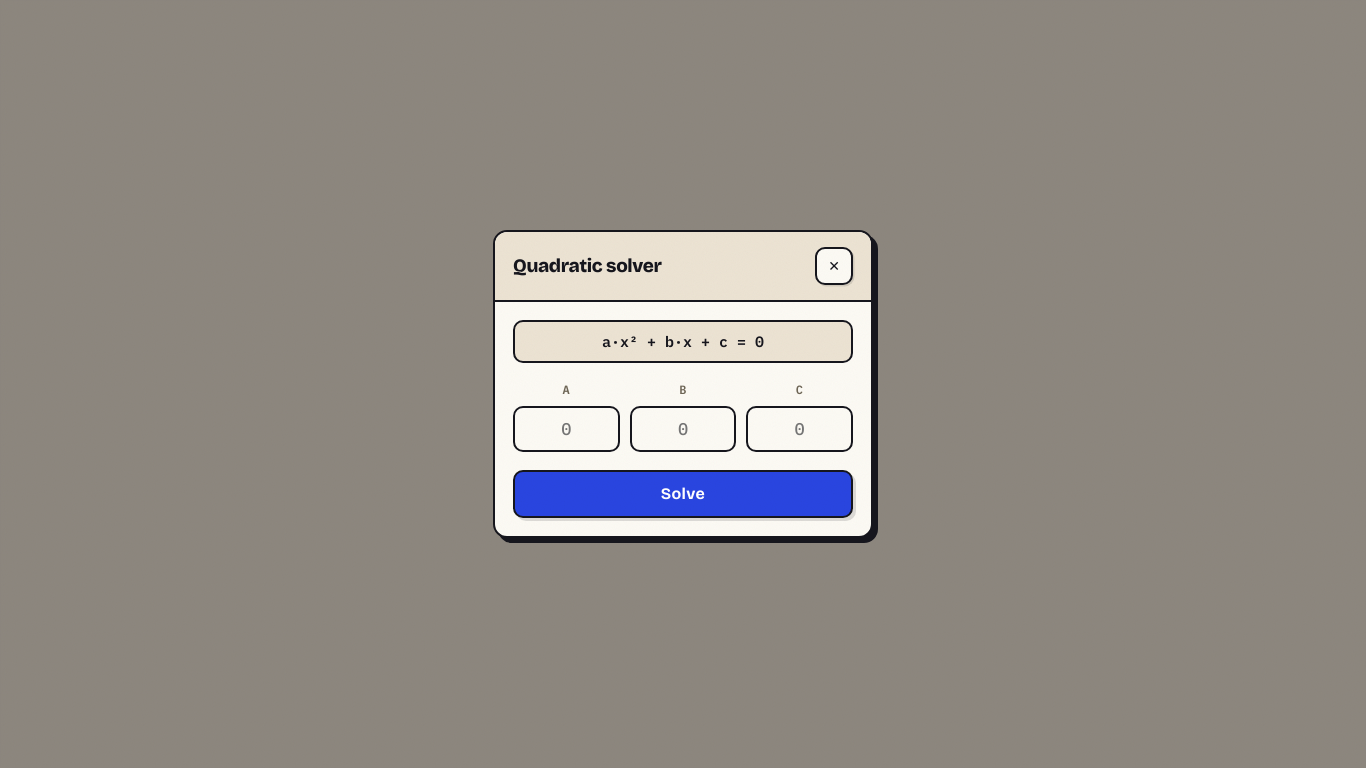
it: QuadraticSolver UI › solves a real-root quadratic from the inputs
Step 1. Type "1" into the field labelled "a" → (566, 429), box 513,406 -> 620,452
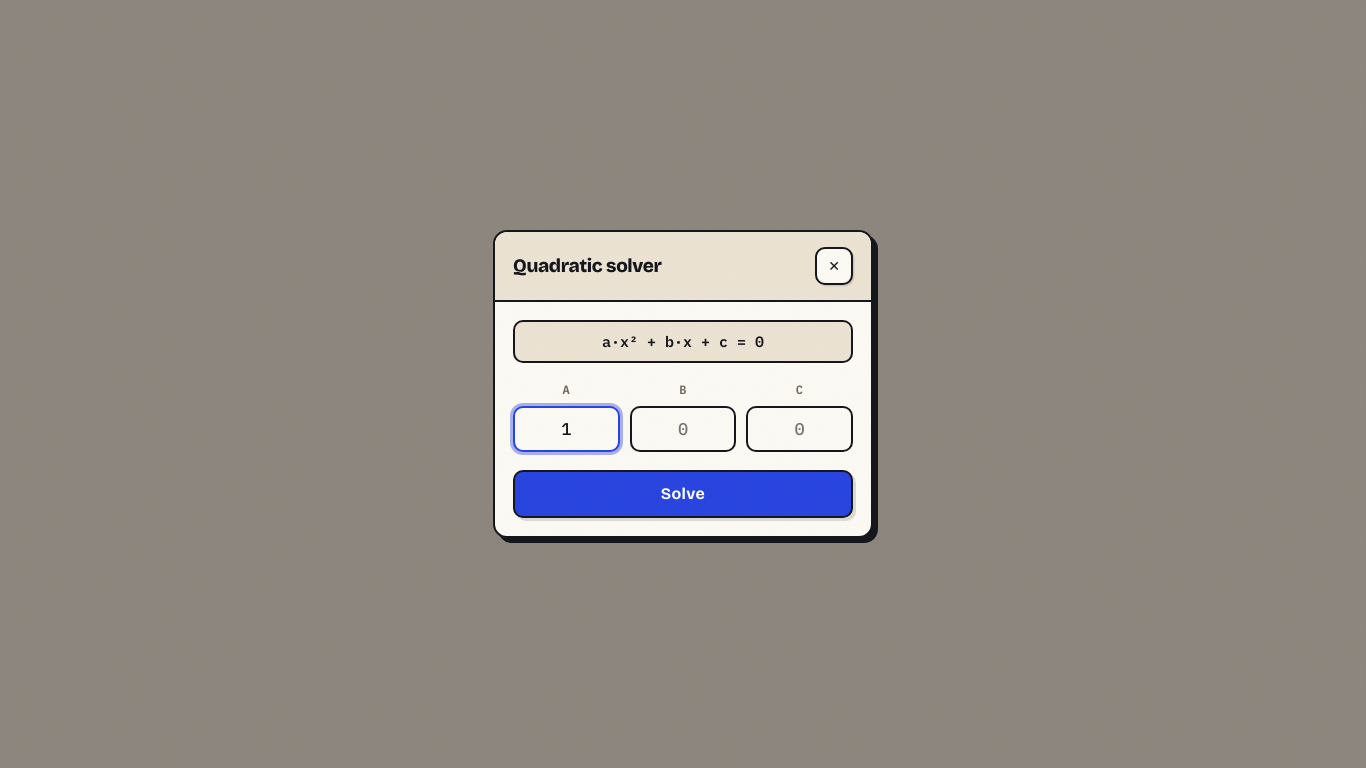
Step 2. Type "-5" into the field labelled "b" → (683, 429), box 630,406 -> 736,452
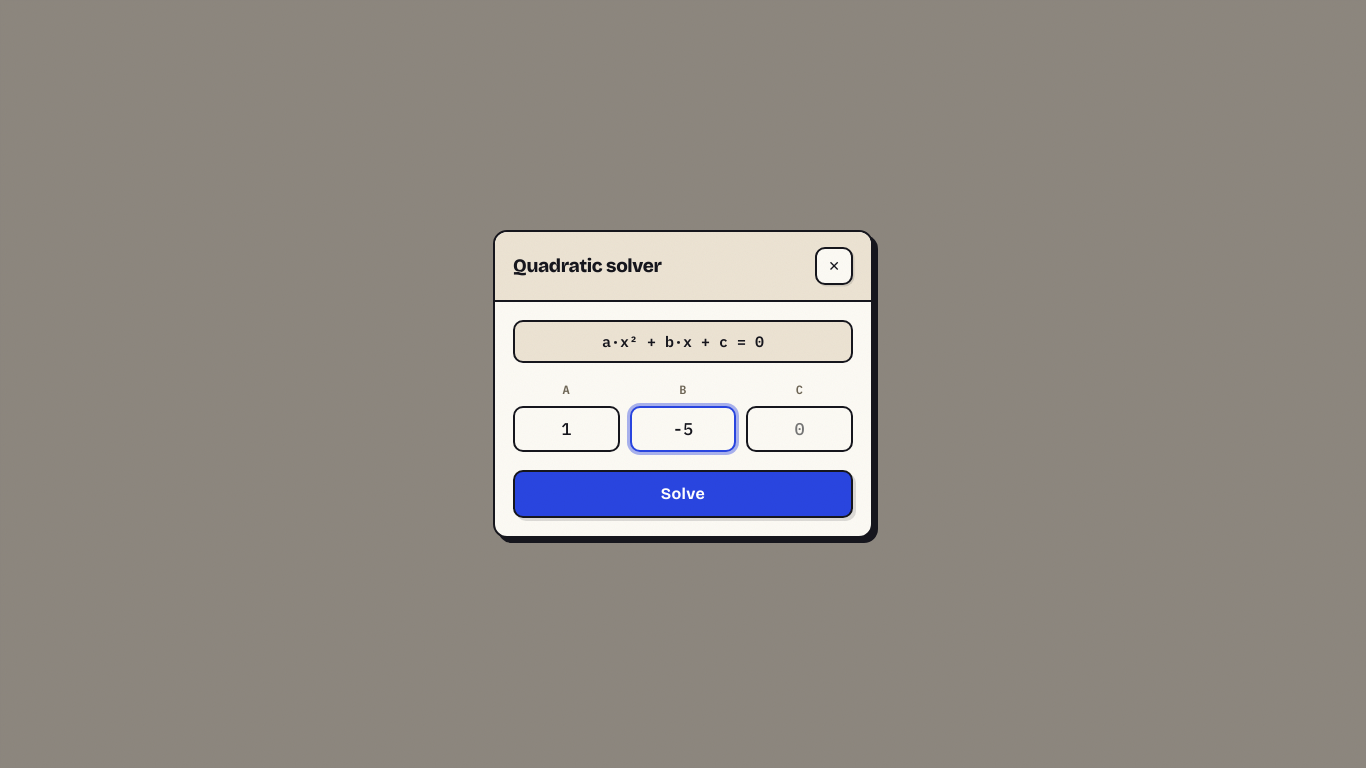
Step 3. Type "6" into the field labelled "c" → (800, 429), box 746,406 -> 853,452
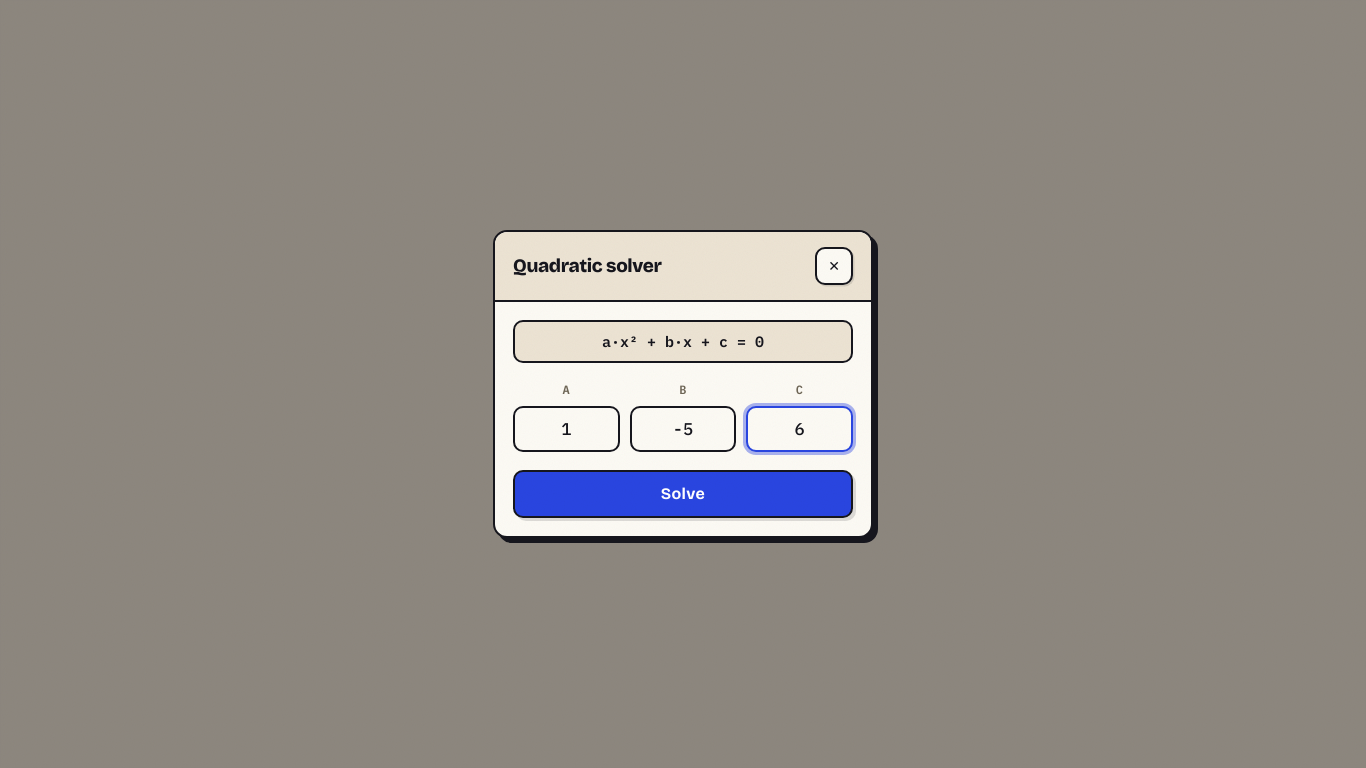
Step 4. Click the button "Solve" → click(683, 494), box 513,470 -> 853,518
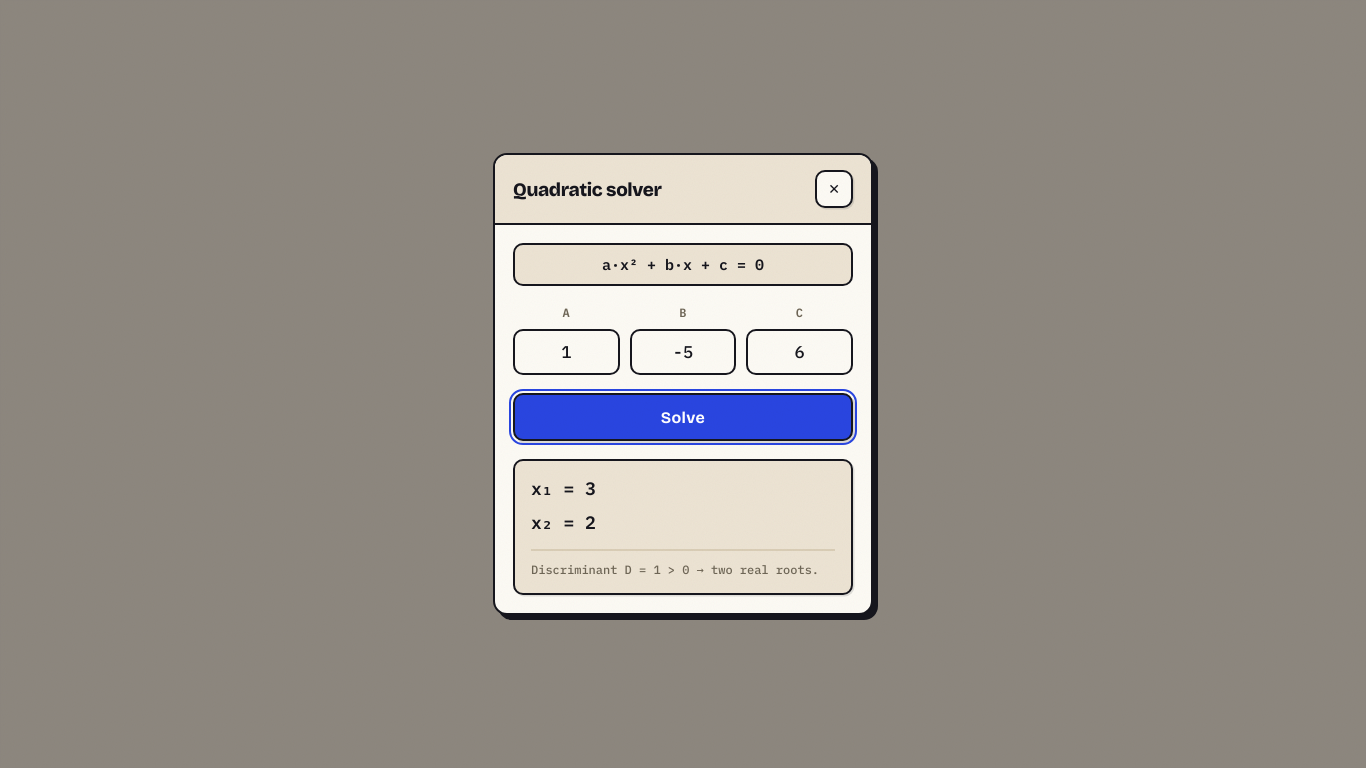
Check: the list item "x₁ = 3" is shown, box 531,477 -> 596,500
Check: the list item "x₂ = 2" is shown, box 531,511 -> 596,534
